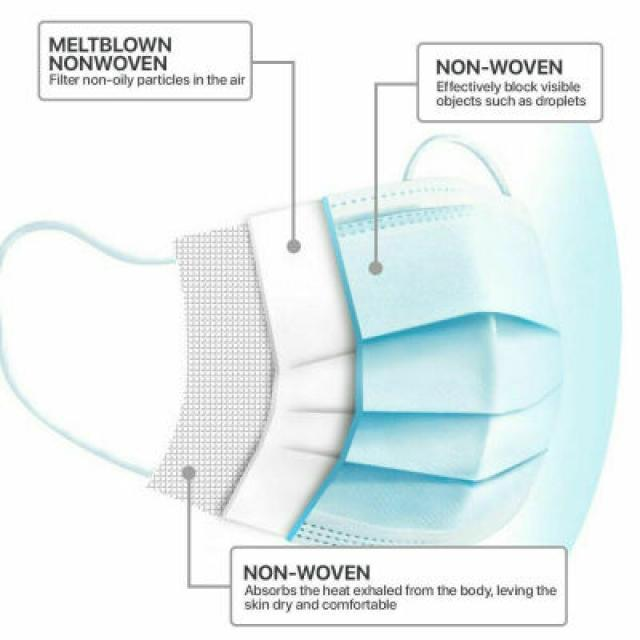face mask: (0, 119, 542, 558)
